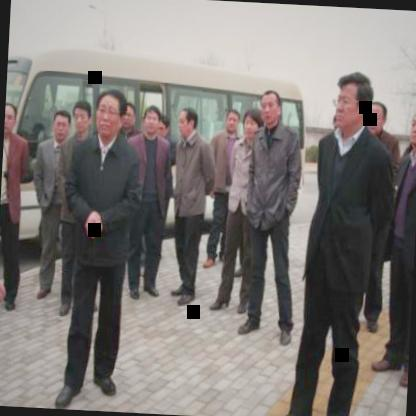head: (331, 68, 374, 136), (94, 84, 126, 140), (364, 97, 390, 138), (258, 87, 284, 128), (48, 105, 73, 146), (70, 98, 94, 140), (240, 106, 262, 146), (175, 103, 198, 138), (3, 96, 18, 149), (143, 104, 161, 140), (118, 101, 136, 131), (221, 107, 240, 132), (155, 113, 171, 142), (408, 98, 416, 152)
